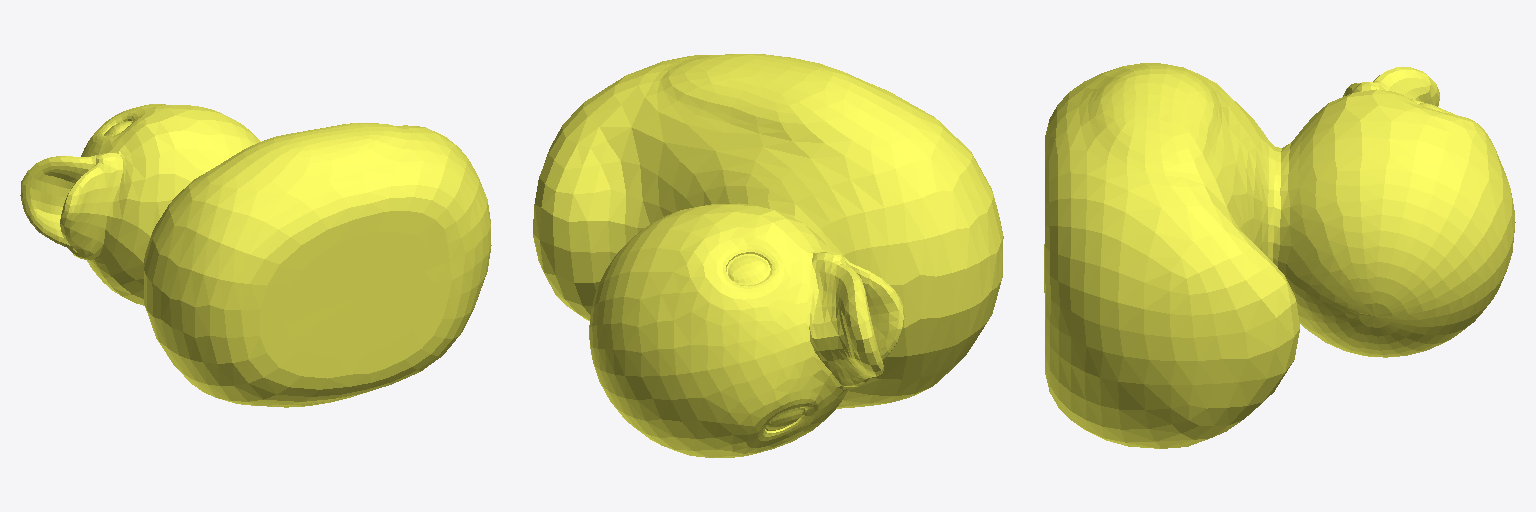
The robot description file, URDF, robot "cube.urdf":
<?xml version="1.0" ?>
<robot name="cube.urdf">

  <link name="world"/>

  <link name="baseLink">
    <contact>
      <lateral_friction value="1.0"/>
      <rolling_friction value="0.0"/>
      <contact_cfm value="0.0"/>
      <contact_erp value="1.0"/>
    </contact>
    <inertial>
      <origin rpy="0 0 0" xyz="0.0 0.02 0.0"/>
       <mass value=".1"/>
       <inertia ixx="1" ixy="0" ixz="0" iyy="1" iyz="0" izz="1"/>
    </inertial>
    <visual>
      <origin rpy="0 0 0" xyz="0 0 0"/>
      <geometry>
        <mesh filename="roboverse/envs/assets/objects/duck.obj" scale=".05 .05 .05"/>
      </geometry>
       <material name="yellow">
        <color rgba="1 1 0.4 1"/>
      </material>
    </visual>
    <collision>
      <origin rpy="0 0 0" xyz="0 0 0"/>
      <geometry>
	 	   <mesh filename="roboverse/envs/assets/objects/duck_vhacd.obj" scale=".05 .05 .05"/>
      </geometry>
    </collision>
  </link>

  <joint name="j_lid" type="prismatic">
    <origin rpy="0 0 0" xyz="0 0 0.35"/>
    <parent link="world"/>
    <child link="baseLink"/>
    <axis xyz="0 1 0"/>
    <limit effort="100" lower="0" upper="0.2" velocity="100"/>
  </joint>

</robot>

--- Facts derived from the render (not from the file) ---
The picture shows the robot from 3 angles, left to right: view 1: azimuth 30°, elevation 25°; view 2: azimuth 150°, elevation 25°; view 3: azimuth 270°, elevation 25°; orthographic projection.
Model cube.urdf with 2 links and 1 joints (1 prismatic), rooted at world, posed all joints at 0.
Links seen in each view (by area): view 1: baseLink; view 2: baseLink; view 3: baseLink.
Boxes of the visible links, box(x1,y1,x2,y2) form: baseLink: box(20, 104, 491, 407); baseLink: box(533, 54, 1003, 457); baseLink: box(1044, 63, 1515, 448).
Bounding box of the posed robot: 0.0824 × 0.0767 × 0.0575 m (x, y, z).
1 mesh visuals loaded from 1 distinct referenced files (1 OBJ).